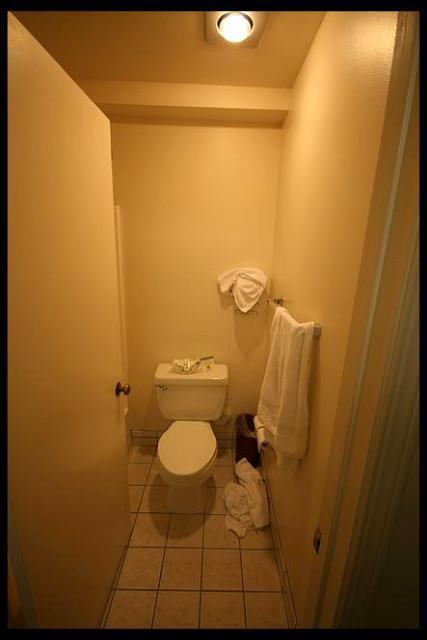Bote de Basura: (231, 412, 263, 475)
Sanitario: (156, 357, 226, 509)
